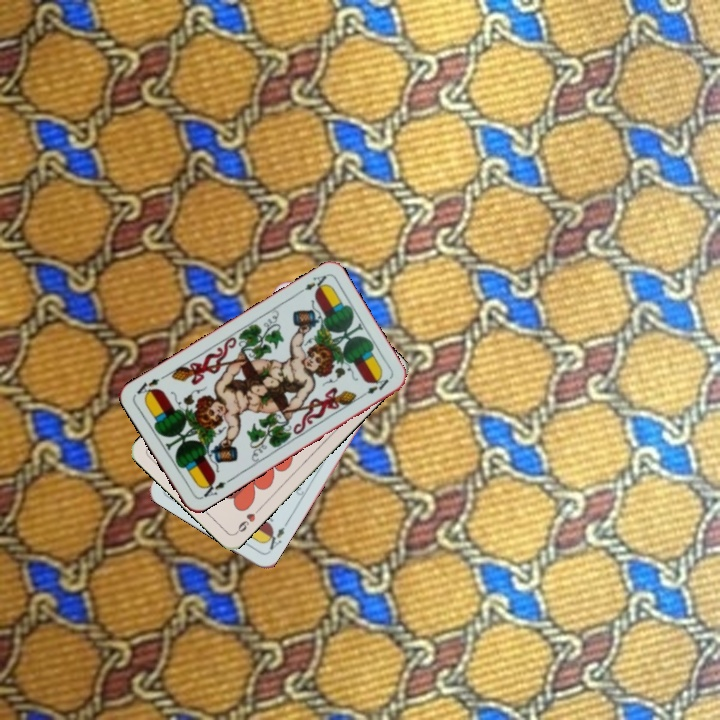EA: (261, 518, 290, 555), (293, 271, 330, 298), (197, 475, 228, 500)
H9: (232, 504, 263, 536)
